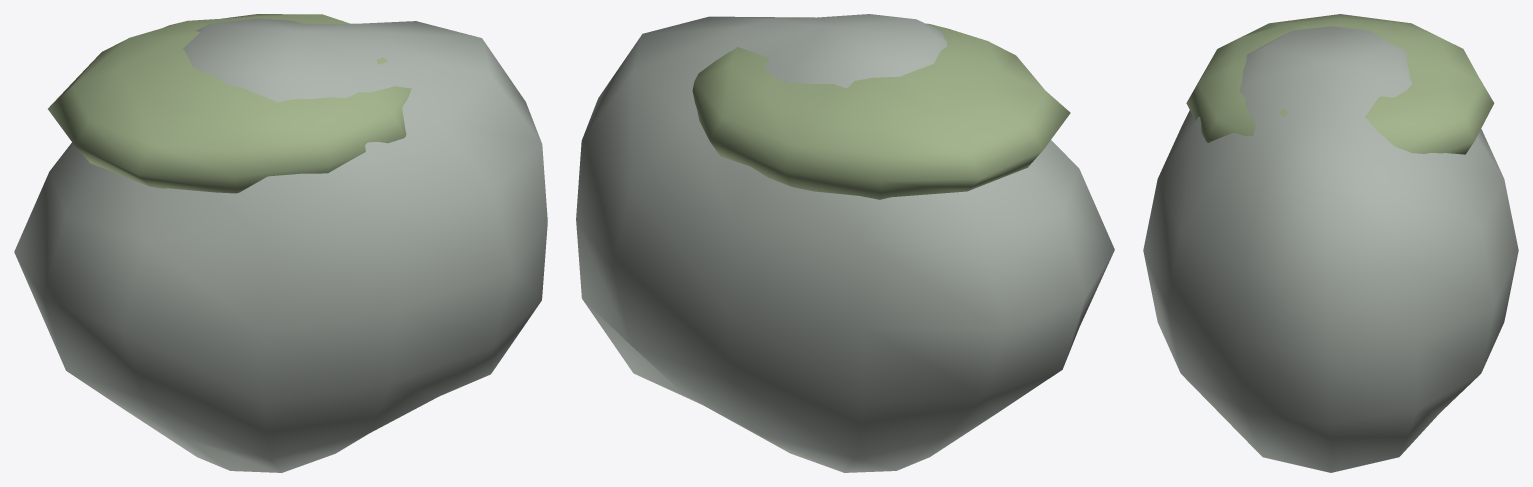
The model's file is SM_Rock_0_UV4746.fbx.
The picture shows the model from 3 angles, left to right: view 1: azimuth 30°, elevation 25°; view 2: azimuth 150°, elevation 25°; view 3: azimuth 270°, elevation 25°; orthographic projection. The views are drawn at different scales.
Visible parts, largest first — view 1: SM_Rock_0_UV4746; view 2: SM_Rock_0_UV4746; view 3: SM_Rock_0_UV4746.
Boxes of the visible parts, x1,y1,x2,y2 form: SM_Rock_0_UV4746: (14,14,547,472); SM_Rock_0_UV4746: (576,14,1114,472); SM_Rock_0_UV4746: (1143,14,1518,472).
Size of the model in its own units: 280 by 200 by 220.
